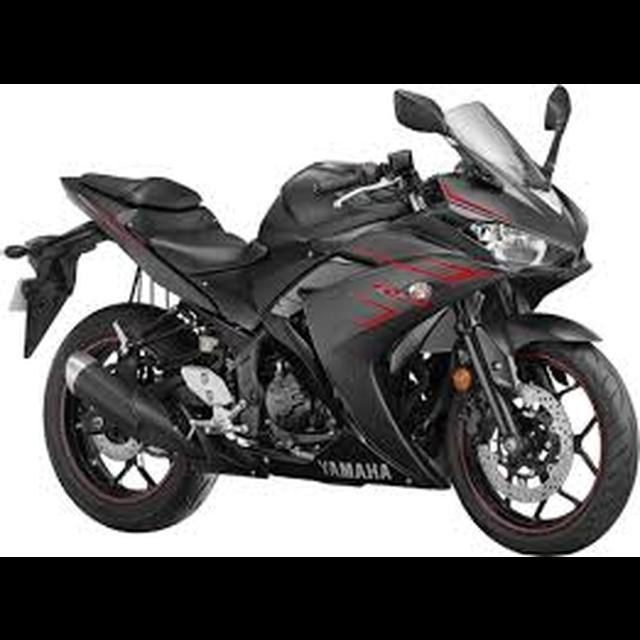motorcycle: (0, 85, 640, 556)
